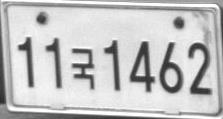1: (14, 36, 41, 88), (99, 39, 126, 91), (41, 37, 68, 88)
2: (187, 42, 211, 95)
4: (129, 40, 155, 92)
6: (158, 41, 185, 94)
국: (71, 47, 94, 89)
